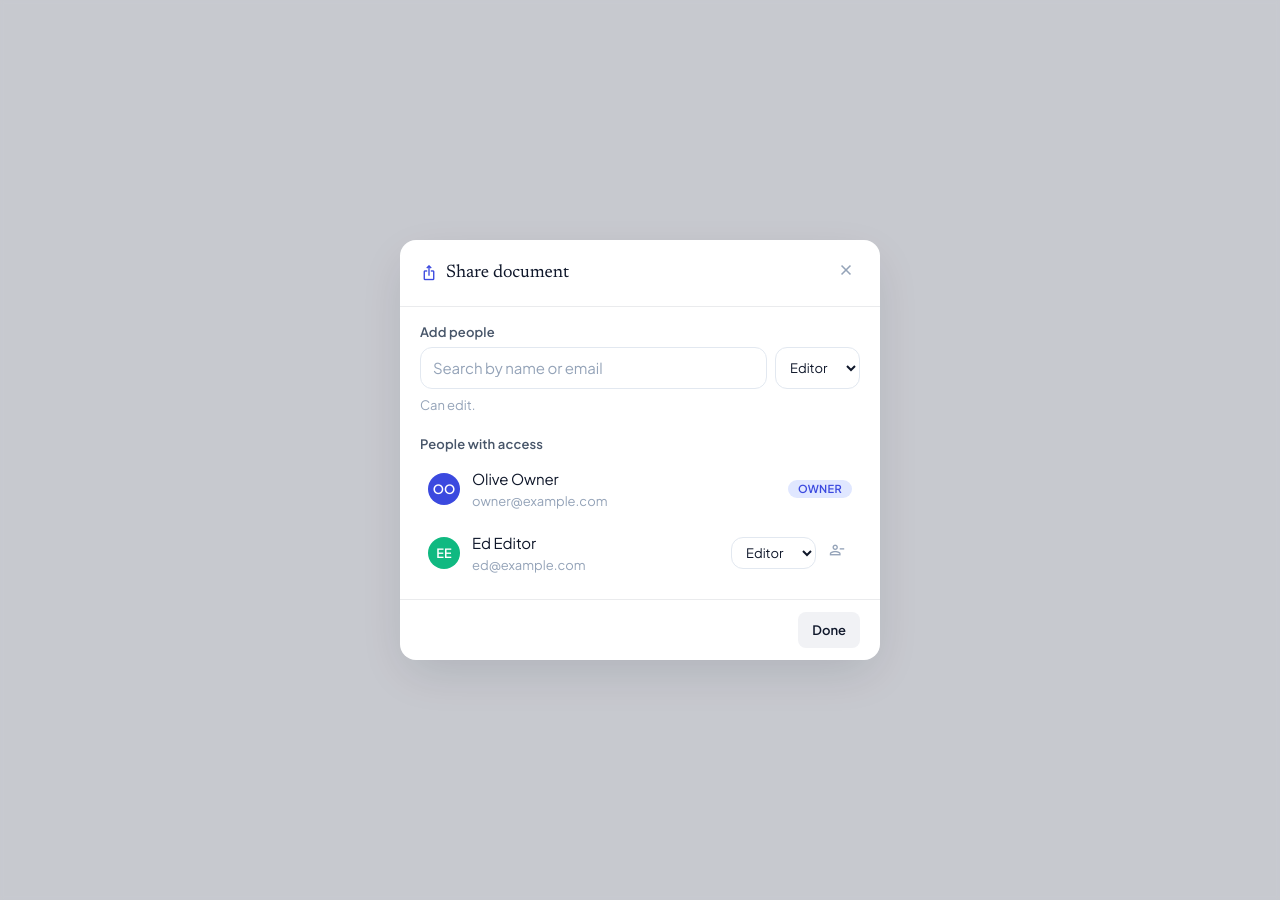
Test case: ShareDialog (owner) › searches and adds a user with the chosen role
Expected: the text "Olive Owner" is shown, [472, 469, 559, 488]
Select "Viewer" in the dropdown named "Role for new member": (818, 368) [775, 347, 860, 389]
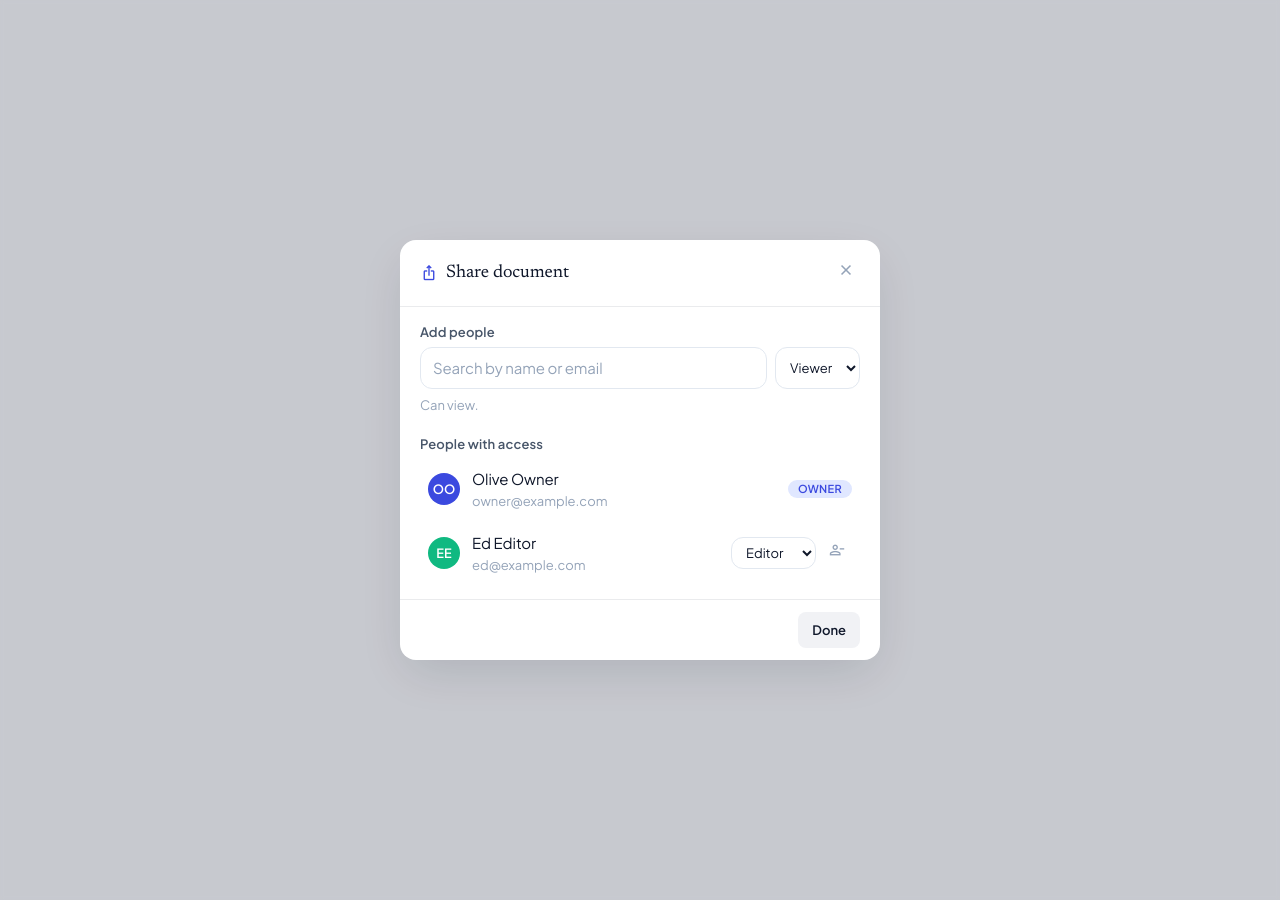
In the field named "Search users to add": (594, 368) [420, 347, 767, 389], type "nina"
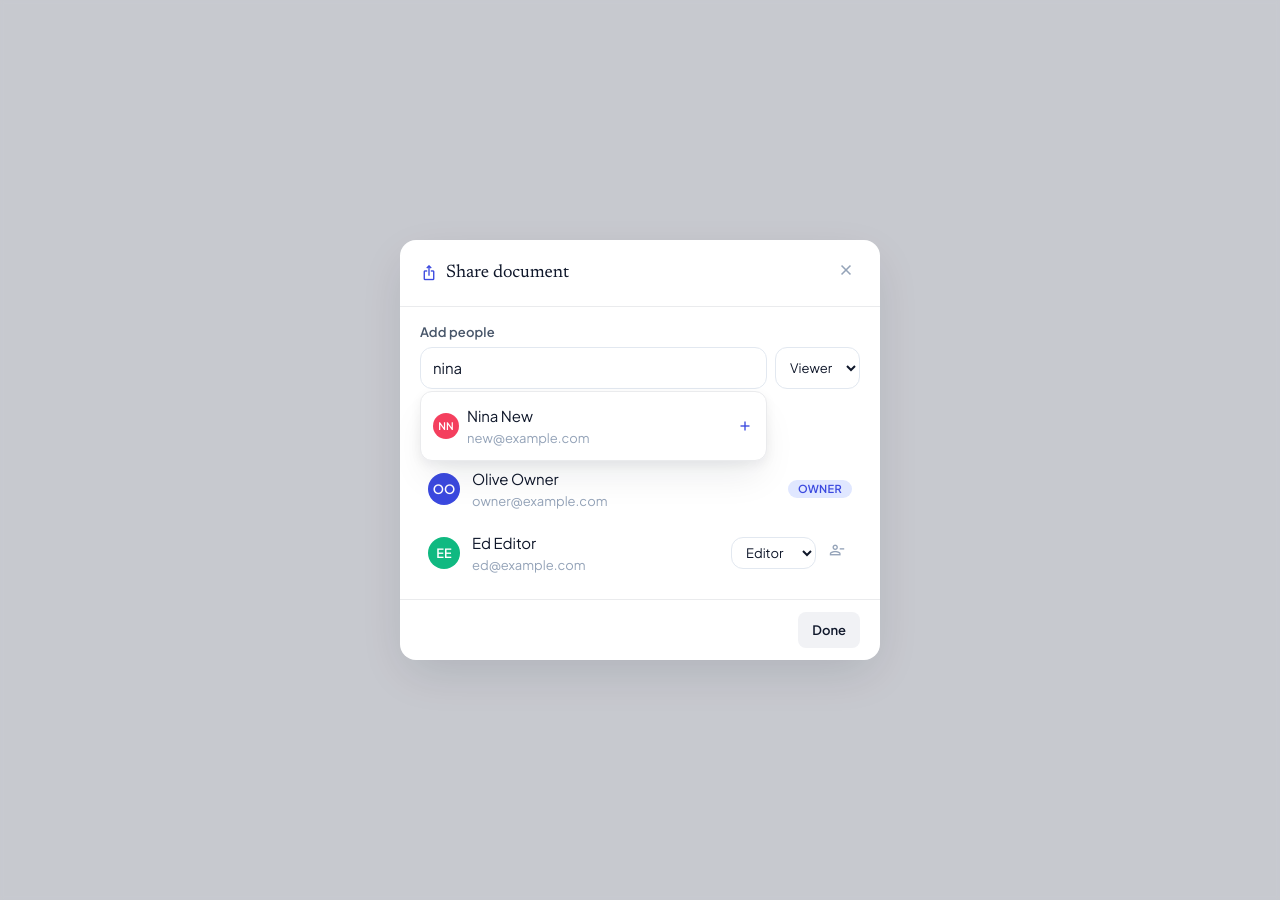
Click the text "Nina New": click(500, 416) [467, 406, 533, 425]
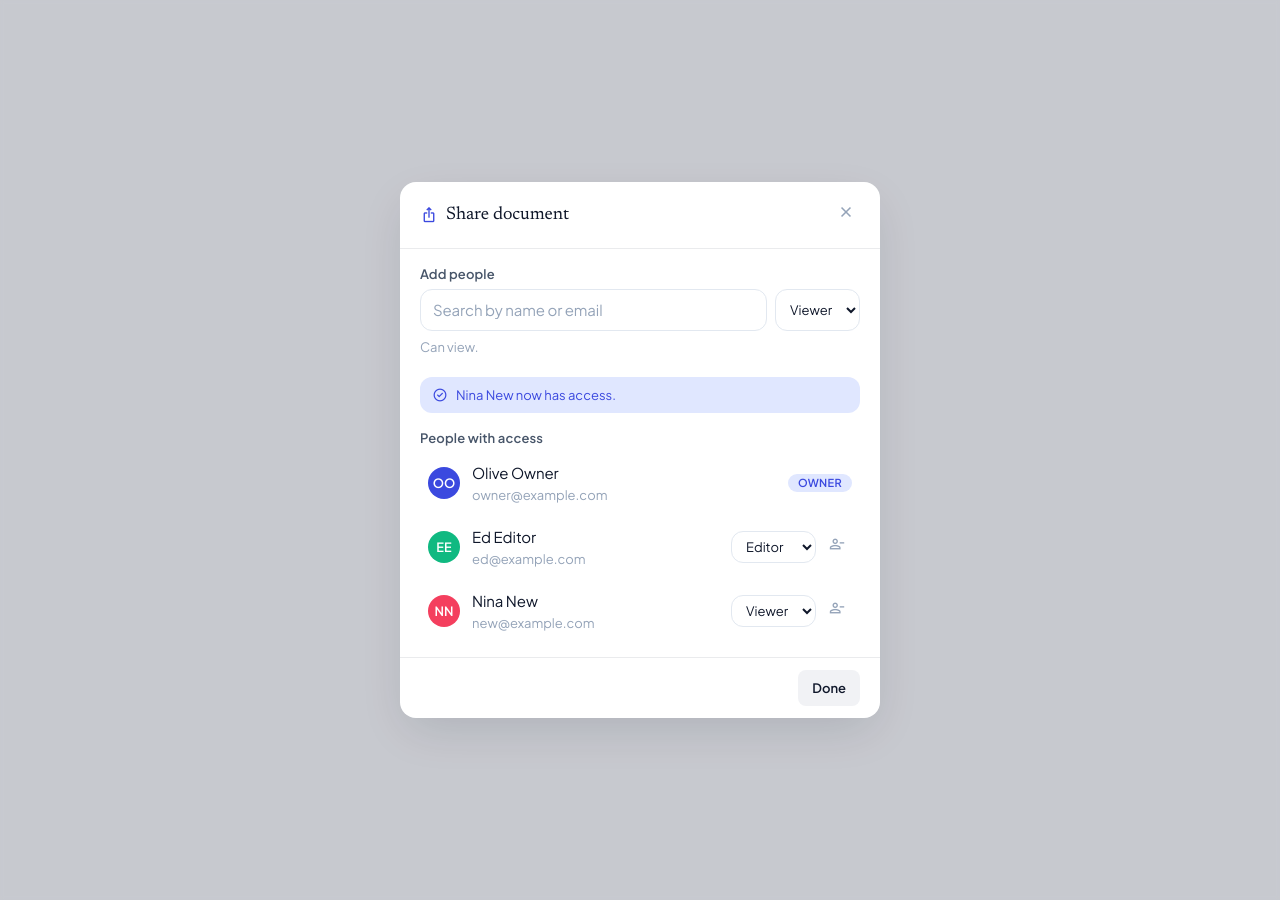
Result: the text "Nina New now has access." is shown at [420, 377, 860, 413]
